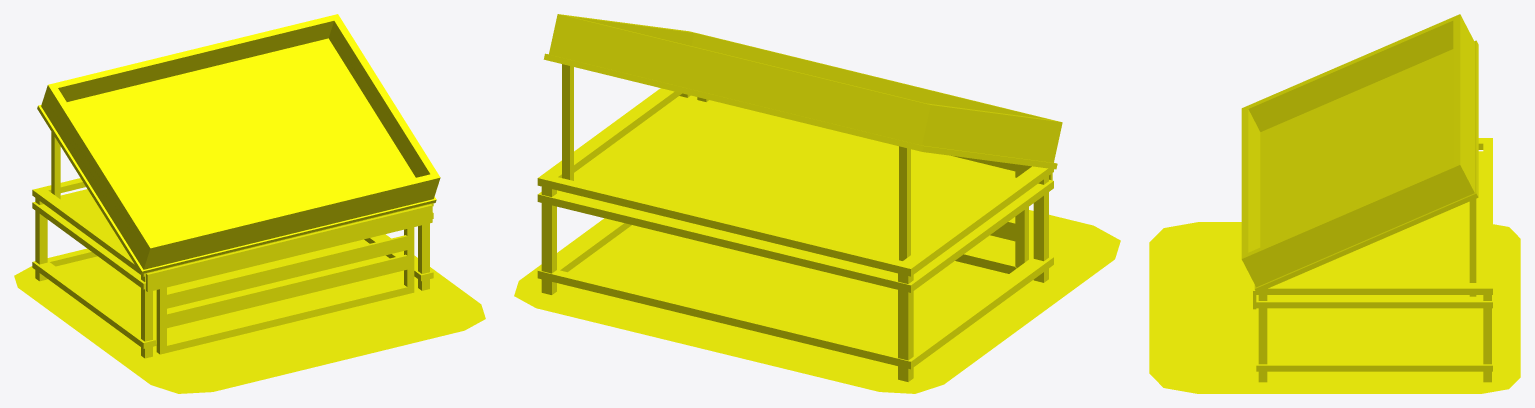
The model's file is Ke hoa qua.gltf.
3 renders of one model, left to right at view 1: azimuth 30°, elevation 25°; view 2: azimuth 150°, elevation 25°; view 3: azimuth 270°, elevation 25°, orthographic. The views are drawn at different scales.
Visible parts, largest first — view 1: Ke hoa qua; view 2: Ke hoa qua; view 3: Ke hoa qua.
Part boxes in pixels (x1=…): Ke hoa qua: x1=14, y1=14, x2=485, y2=393; Ke hoa qua: x1=514, y1=14, x2=1120, y2=393; Ke hoa qua: x1=1149, y1=14, x2=1520, y2=393.
Bounding box in the file's own units: 2.14 × 1.27 × 1.95.
Materials: 1 (1 with a texture image).
